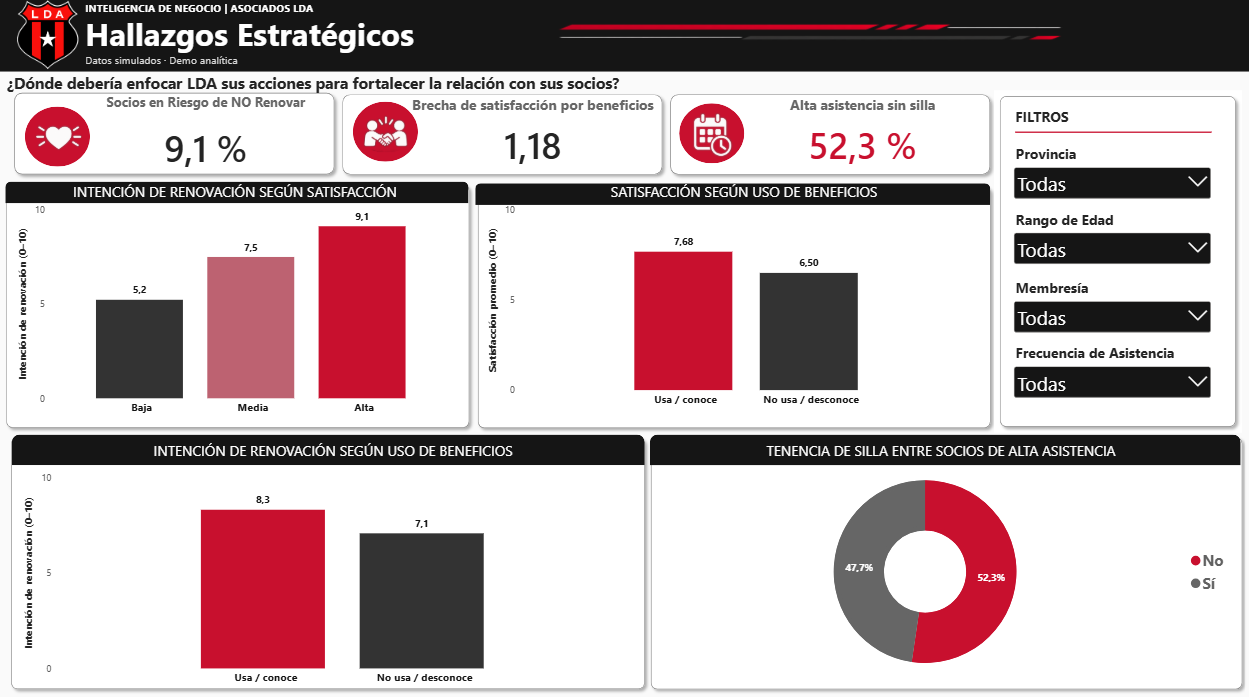

What the dashboard file says about the page in this screenshot:
{"tool":"powerbi","page":{"name":"Hallazgos Estratégicos","canvas":[1920,1080],"ordinal":4},"visuals":[{"type":"shape","box":[0,0,1920.7,114],"z":0},{"type":"shape","title":"hdhhdhth","box":[1525,142.5,379.4,524.9],"z":0,"group":"g1"},{"type":"group","id":"g1","title":"Grupo 1","box":[1525,142.5,379.4,524.9],"z":0,"group":"g9"},{"type":"shape","title":"hdhhdhth","box":[3.4,278.3,727.7,391.3],"z":0,"group":"g2"},{"type":"group","id":"g2","title":"Grupo 1","box":[3.4,278.3,727.7,391.3],"z":0,"group":"g8"},{"type":"group","id":"g3","title":"Grupo 1","box":[726.2,280.1,803.8,389.2],"z":0,"group":"g7"},{"type":"shape","title":"hdhhdhth","box":[726.2,280.1,803.8,389.2],"z":0,"group":"g3"},{"type":"group","id":"g4","title":"Grupo 1","box":[8.9,664.4,988.9,404.4],"z":0,"group":"g5"},{"type":"shape","title":"hdhhdhth","box":[8.9,664.4,988.9,404.4],"z":0,"group":"g4"},{"type":"group","id":"g5","title":"Grupo 2","box":[8.9,664.4,988.9,404.4],"z":0,"group":"g14"},{"type":"shape","title":"hdhhdhth","box":[991.1,664.4,924.4,404.4],"z":0,"group":"g6"},{"type":"group","id":"g6","title":"Grupo 1","box":[991.1,664.4,924.4,404.4],"z":0,"group":"g10"},{"type":"textbox","box":[133.6,4.8,560.7,33.4],"z":1000},{"type":"group","id":"g7","title":"Grupo 2","box":[726.2,280.1,803.8,389.2],"z":1000,"group":"g13"},{"type":"shape","box":[11.8,283,710,33.5],"z":1000,"group":"g2"},{"type":"textbox","box":[78.2,284.1,575,29.5],"z":1000,"group":"g8"},{"type":"shape","box":[731.4,284.2,789.3,33.6],"z":1000,"group":"g3"},{"type":"shape","box":[999.8,668.5,905.6,47.6],"z":1000,"group":"g6"},{"type":"shape","box":[18.8,669.1,969.8,47.1],"z":1000,"group":"g4"},{"type":"textbox","box":[166.6,680,689.5,38.2],"z":1000,"group":"g5"},{"type":"textbox","box":[1120.2,680,647.5,33.5],"z":1000,"group":"g10"},{"type":"textbox","box":[133.6,21.5,734.9,64.4],"z":2000},{"type":"group","id":"g8","title":"Grupo 2","box":[3.4,278.3,727.7,391.3],"z":2000,"group":"g12"},{"type":"textbox","box":[133.6,85.9,248.1,21.5],"z":3000},{"type":"shape","box":[1018.8,140.8,508.2,140.8],"z":3000,"group":"g11"},{"type":"textbox","box":[898.5,282.3,489.1,33.4],"z":3000,"group":"g7"},{"type":"image","box":[7.2,0,133.6,121.7],"z":4000},{"type":"shape","box":[517.7,140.8,508.2,140.8],"z":4000,"group":"g11"},{"type":"group","id":"g9","title":"Grupo 2","box":[1525,142.5,379.4,524.9],"z":4000,"group":"g15"},{"type":"shape","box":[14.3,138.4,508.2,143.2],"z":5000,"group":"g11"},{"type":"group","id":"g10","title":"Grupo 2","box":[991.1,664.4,924.4,404.4],"z":5000},{"type":"donutChart","fields":{"Category":["EncuestaSociosTable.Tiene_Silla"],"Y":["EncuestaSociosTable.Total_Respuestas"]},"box":[997.3,699.1,906.6,360.3],"z":6000},{"type":"group","id":"g11","title":"Grupo 3","box":[14.3,138.4,1512.7,145.5],"z":7000},{"type":"slicer","fields":{"Values":["EncuestaSociosTable.Provincia"]},"box":[1551.2,224.4,312.6,116.9],"z":7000,"group":"g15"},{"type":"group","id":"g12","title":"Grupo 4","box":[3.4,278.3,727.7,391.3],"z":8000},{"type":"slicer","fields":{"Values":["EncuestaSociosTable.Rango_Edad"]},"box":[1551.2,324.6,312.6,116.9],"z":8000,"group":"g15"},{"type":"group","id":"g13","title":"Grupo 5","box":[726.2,280.1,803.8,389.2],"z":9000},{"type":"slicer","fields":{"Values":["EncuestaSociosTable.Membresia"]},"box":[1551.2,429.6,312.6,116.9],"z":9000,"group":"g15"},{"type":"cardVisual","title":"Socios en Riesgo de NO Renovar","fields":{"Data":["EncuestaSociosTable.%_En_Riesgo"]},"box":[138.3,148.9,348.6,122.1],"z":10000,"group":"g11"},{"type":"slicer","fields":{"Values":["EncuestaSociosTable.Frecuencia_Estadio"]},"box":[1551.2,529.8,312.6,116.9],"z":10000,"group":"g15"},{"type":"group","id":"g14","title":"Grupo 6","box":[8.9,664.4,988.9,411.1],"z":10000},{"type":"textbox","box":[13.3,115.6,1022.2,37.8],"z":11000},{"type":"cardVisual","title":"Brecha de satisfacción por beneficios","fields":{"Data":["EncuestaSociosTable.Brecha_Satisfaccion_Beneficios"]},"box":[629.9,150.3,377,121.7],"z":11000,"group":"g11"},{"type":"textbox","box":[1558.4,166.4,272,42.9],"z":11000,"group":"g15"},{"type":"group","id":"g15","title":"Grupo 7","box":[1525,142.5,379.4,524.9],"z":12000},{"type":"shape","box":[39.6,167.3,100,92.3],"z":12000,"group":"g11"},{"type":"shape","box":[1558.4,195,300.6,23.9],"z":12000,"group":"g15"},{"type":"image","box":[844.6,0,796.9,114.5],"z":12001},{"type":"shape","box":[542.2,161.6,100,92.3],"z":13000,"group":"g11"},{"type":"shape","box":[1042.6,163.6,100,92.3],"z":14000,"group":"g11"},{"type":"cardVisual","title":"Alta asistencia sin silla","fields":{"Data":["EncuestaSociosTable.%_Alta_Asistencia_Sin_Silla"]},"box":[1140.5,150.3,367.4,121.7],"z":23000,"group":"g11"},{"type":"columnChart","fields":{"Category":["EncuestaSociosTable.Uso_Conocimiento_Beneficios"],"Y":["EncuestaSociosTable.Intencion_Renovacion_Promedio"]},"box":[20.8,725.1,965,350.5],"z":26000,"group":"g14"},{"type":"columnChart","fields":{"Category":["EncuestaSociosTable.Nivel_Satisfaccion_PQ"],"Y":["EncuestaSociosTable.Intencion_Renovacion_Promedio"]},"box":[12.7,316.3,701.7,346.6],"z":27000,"group":"g12"},{"type":"columnChart","fields":{"Category":["EncuestaSociosTable.Uso_Conocimiento_Beneficios"],"Y":["EncuestaSociosTable.Satisfaccion_Promedio"]},"box":[734.3,315.9,780.2,334],"z":28000,"group":"g13"},{"type":"image","box":[52.5,150.3,76.3,133.6],"z":29000,"group":"g11"},{"type":"image","box":[553.5,140.8,76,133],"z":30000,"group":"g11"},{"type":"image","box":[1054.6,145.6,76,133],"z":31000,"group":"g11"}]}

Visuals, with their boxes in screenshot pixels (x1, y1, x2, y2), scaled from the page's 1920x1080 canvas onto the 1249x697 screenshot:
shape: 0 0 1248 74
"hdhhdhth" shape: 992 92 1239 431
"Grupo 1" group: 992 92 1239 431
"hdhhdhth" shape: 2 180 476 432
"Grupo 1" group: 2 180 476 432
"Grupo 1" group: 472 181 995 432
"hdhhdhth" shape: 472 181 995 432
"Grupo 1" group: 6 429 649 690
"hdhhdhth" shape: 6 429 649 690
"Grupo 2" group: 6 429 649 690
"hdhhdhth" shape: 645 429 1246 690
"Grupo 1" group: 645 429 1246 690
textbox: 87 3 452 25
"Grupo 2" group: 472 181 995 432
shape: 8 183 470 204
textbox: 51 183 425 202
shape: 476 183 989 205
shape: 650 431 1240 462
shape: 12 432 643 462
textbox: 108 439 557 464
textbox: 729 439 1150 460
textbox: 87 14 565 55
"Grupo 2" group: 2 180 476 432
textbox: 87 55 248 69
shape: 663 91 993 182
textbox: 584 182 903 204
image: 5 0 92 79
shape: 337 91 667 182
"Grupo 2" group: 992 92 1239 431
shape: 9 89 340 182
"Grupo 2" group: 645 429 1246 690
donutChart - EncuestaSociosTable.Tiene_Silla x EncuestaSociosTable.Total_Respuestas: 649 451 1239 684
"Grupo 3" group: 9 89 993 183
slicer - EncuestaSociosTable.Provincia: 1009 145 1212 220
"Grupo 4" group: 2 180 476 432
slicer - EncuestaSociosTable.Rango_Edad: 1009 209 1212 285
"Grupo 5" group: 472 181 995 432
slicer - EncuestaSociosTable.Membresia: 1009 277 1212 353
"Socios en Riesgo de NO Renovar" cardVisual: 90 96 317 175
slicer - EncuestaSociosTable.Frecuencia_Estadio: 1009 342 1212 417
"Grupo 6" group: 6 429 649 694
textbox: 9 75 674 99
"Brecha de satisfacción por beneficios" cardVisual: 410 97 655 176
textbox: 1014 107 1191 135
"Grupo 7" group: 992 92 1239 431
shape: 26 108 91 168
shape: 1014 126 1209 141
image: 549 0 1068 74
shape: 353 104 418 164
shape: 678 106 743 165
"Alta asistencia sin silla" cardVisual: 742 97 981 176
columnChart - EncuestaSociosTable.Uso_Conocimiento_Beneficios x EncuestaSociosTable.Intencion_Renovacion_Promedio: 14 468 641 694
columnChart - EncuestaSociosTable.Nivel_Satisfaccion_PQ x EncuestaSociosTable.Intencion_Renovacion_Promedio: 8 204 465 428
columnChart - EncuestaSociosTable.Uso_Conocimiento_Beneficios x EncuestaSociosTable.Satisfaccion_Promedio: 478 204 985 419
image: 34 97 84 183
image: 360 91 410 177
image: 686 94 735 180
